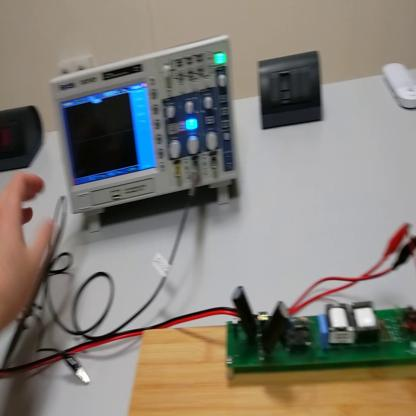hand: (2, 171, 56, 331)
high voltage board: (224, 270, 416, 373)
oscilloscope: (47, 32, 243, 228)
oscilloscope probe tip: (1, 235, 56, 372)
socket: (2, 100, 47, 171)
working area: (129, 321, 416, 416)
